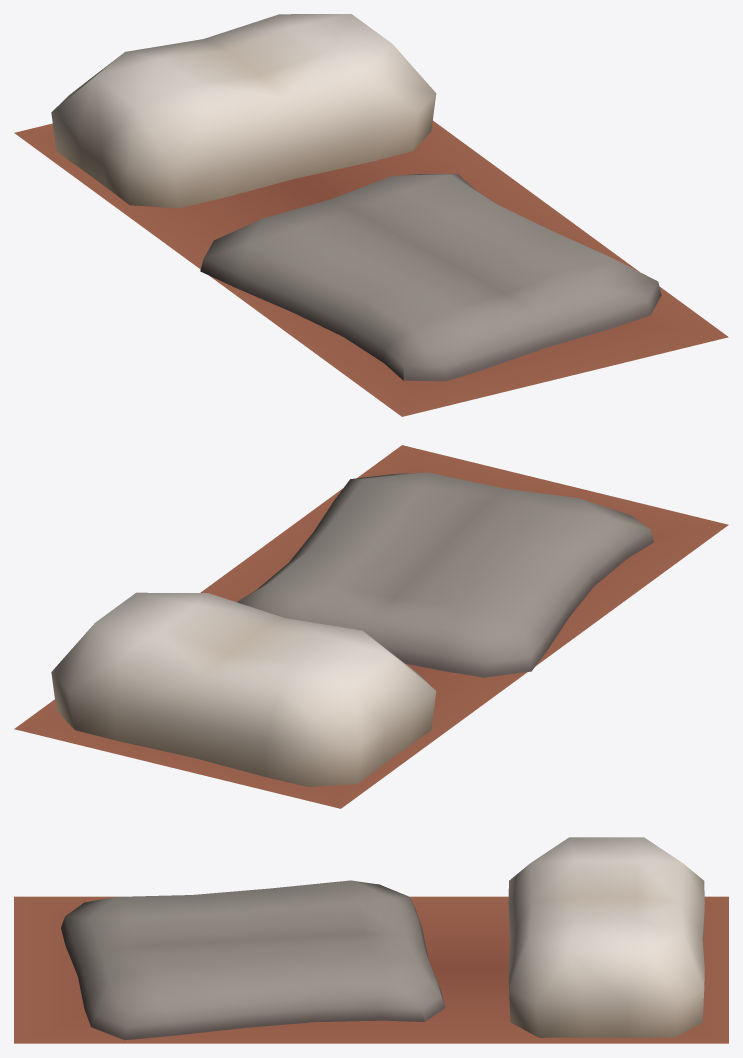
File: bed_bedding.glb
3 renders of one model, top to bottom at view 1: azimuth 30°, elevation 25°; view 2: azimuth 150°, elevation 25°; view 3: azimuth 270°, elevation 25°, orthographic. The views are drawn at different scales.
Visible parts, largest first — view 1: bed_bedding; view 2: bed_bedding; view 3: bed_bedding.
Part boxes in pixels (left/top/right/bottom): bed_bedding: left=14, top=14, right=728, bottom=416; bed_bedding: left=14, top=445, right=728, bottom=808; bed_bedding: left=14, top=837, right=728, bottom=1043.
Bounding box in the file's own units: 1.44 × 0.3626 × 2.95.
1 material, 1 textured.
